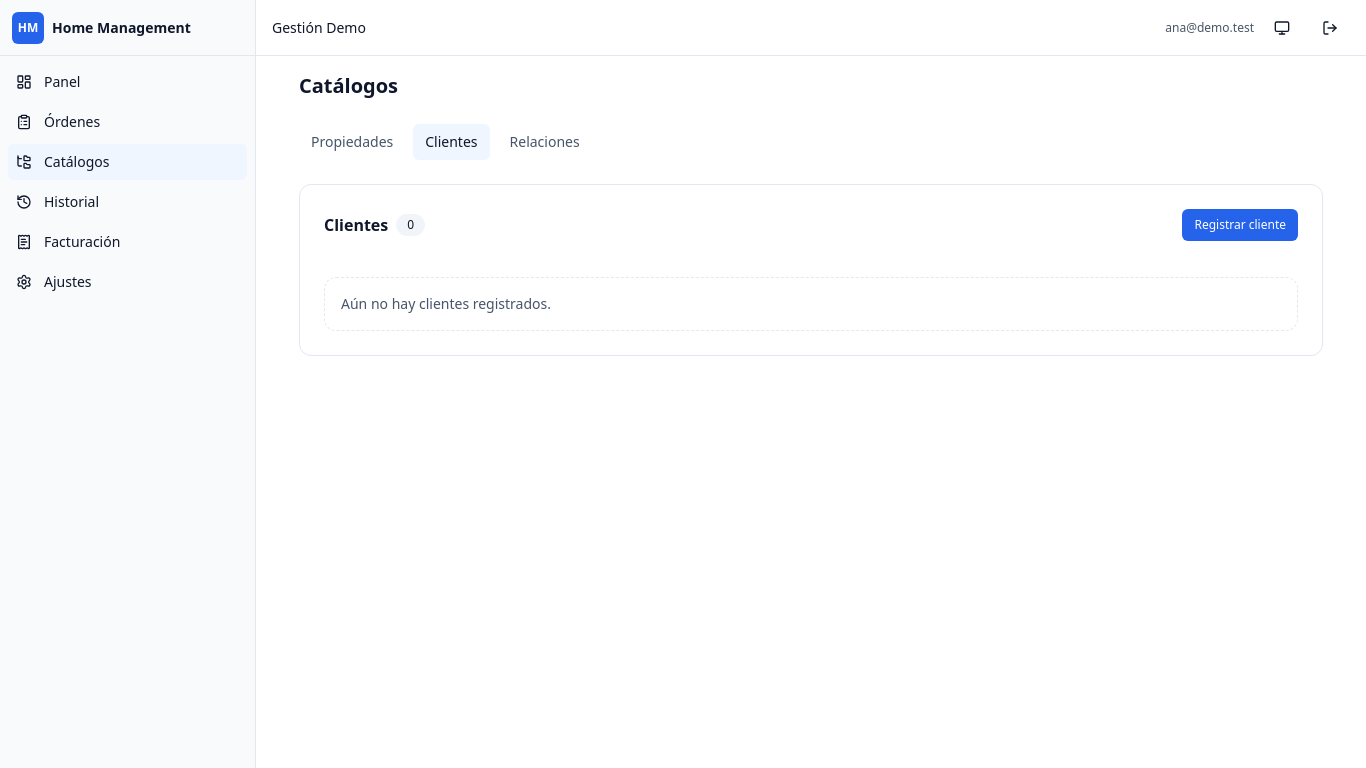
it: own clients (spec F3 §2.1, AC-F3.1/AC-F3.7) › registers a client and reports the emailed limited link (AC-F3.7)
The width and height of the screenshot is (1366, 768).
Click the button "Registrar cliente": (1240, 225) [1182,209,1298,241]
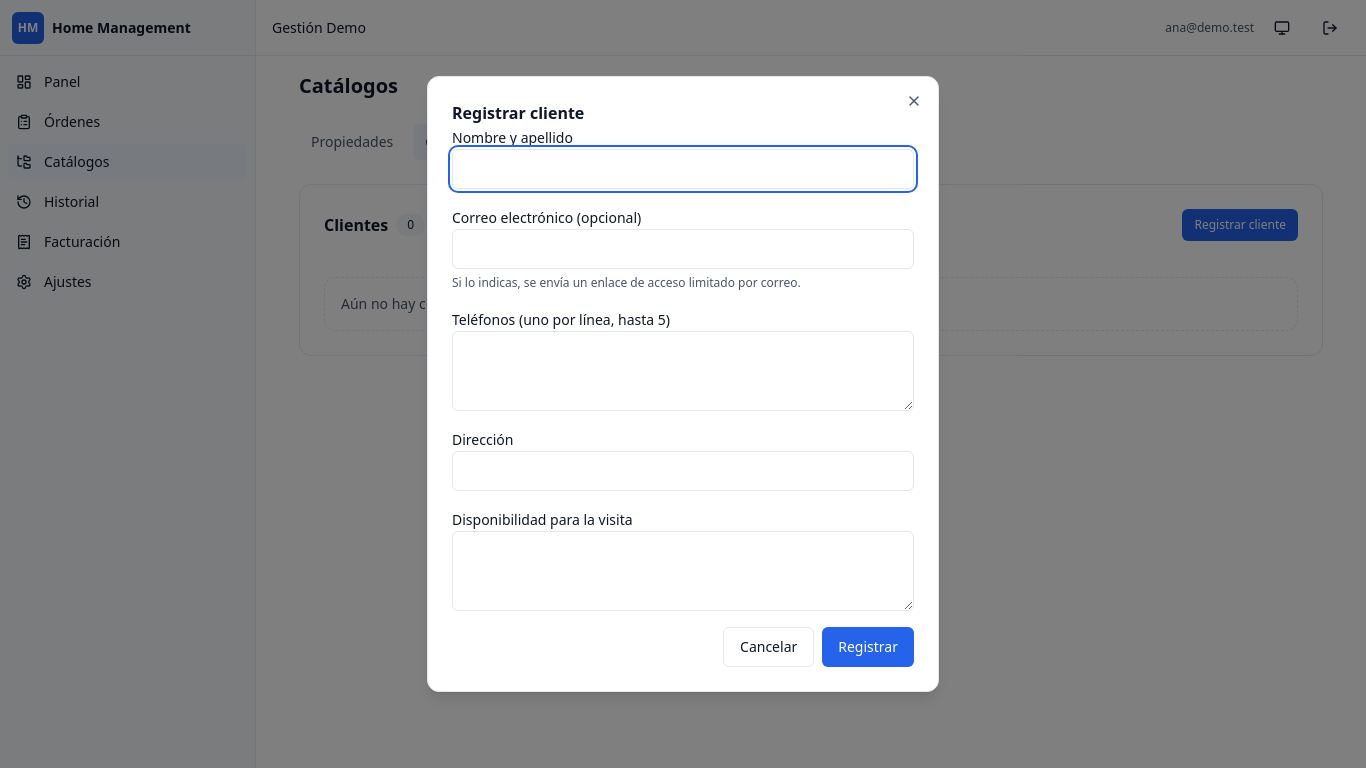
In the field labelled "Nombre y apellido": (683, 169) [452,149,914,189], type "Nuevo Cliente"
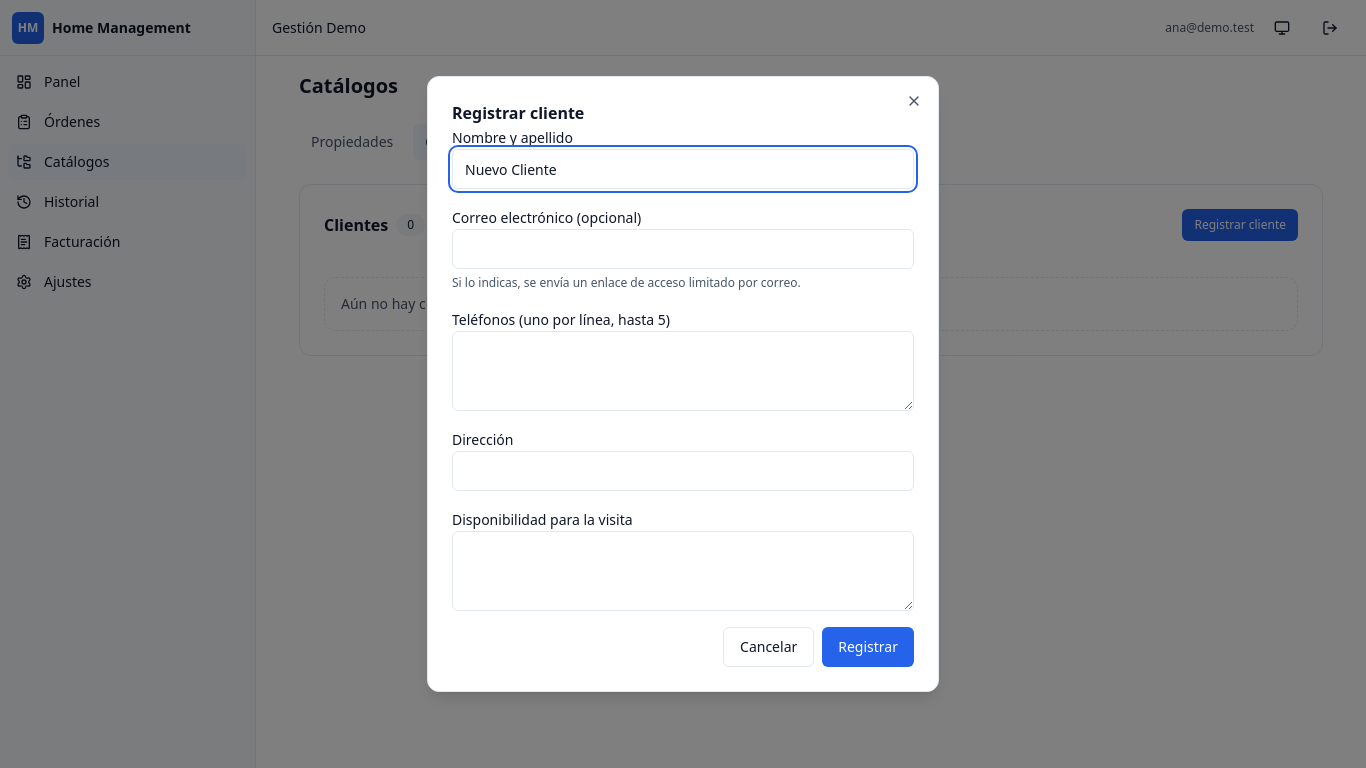
In the field labelled "Correo electrónico (opcional)": (683, 249) [452,229,914,269], type "nuevo@demo.test"
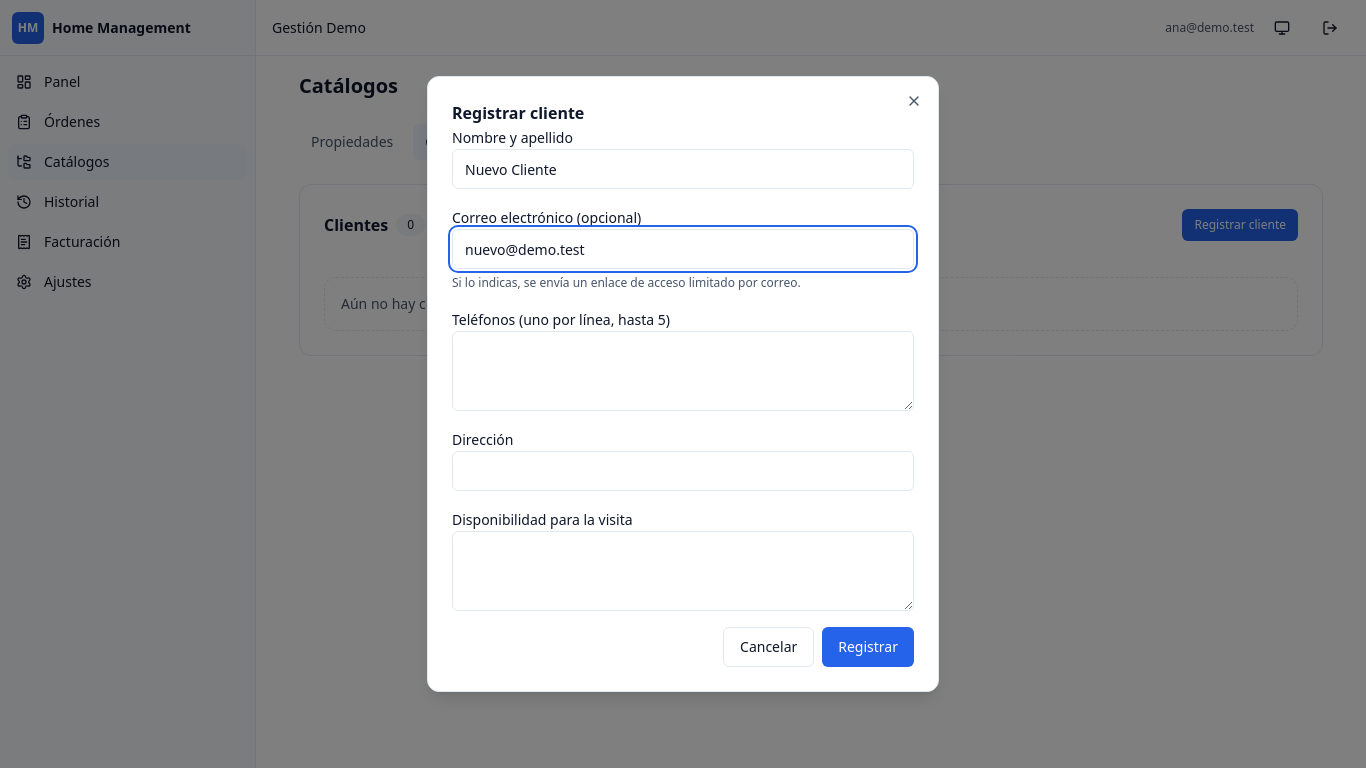
In the text box labelled "Teléfonos (uno por línea, hasta 5)": (683, 371) [452,331,914,411], type "555-0200"
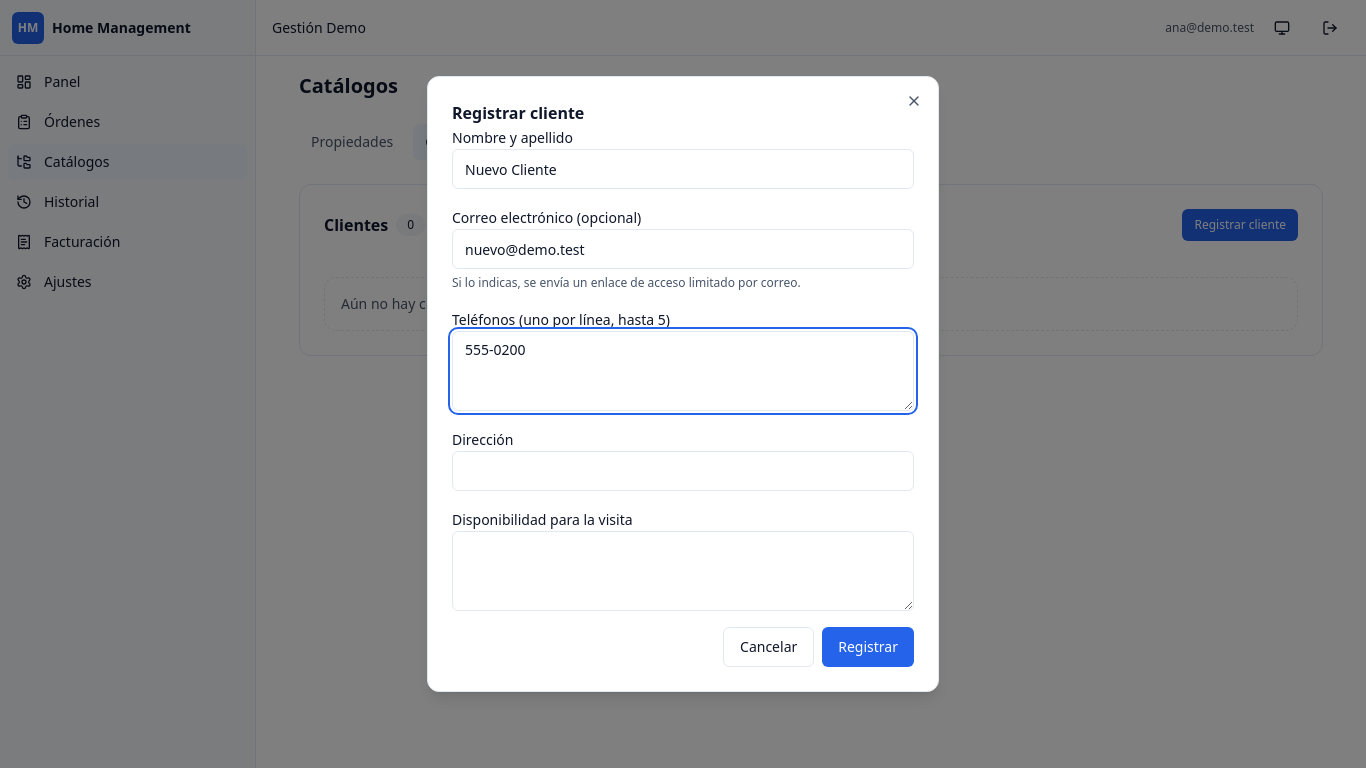
Click the button "Registrar": (868, 647) [822,627,914,667]
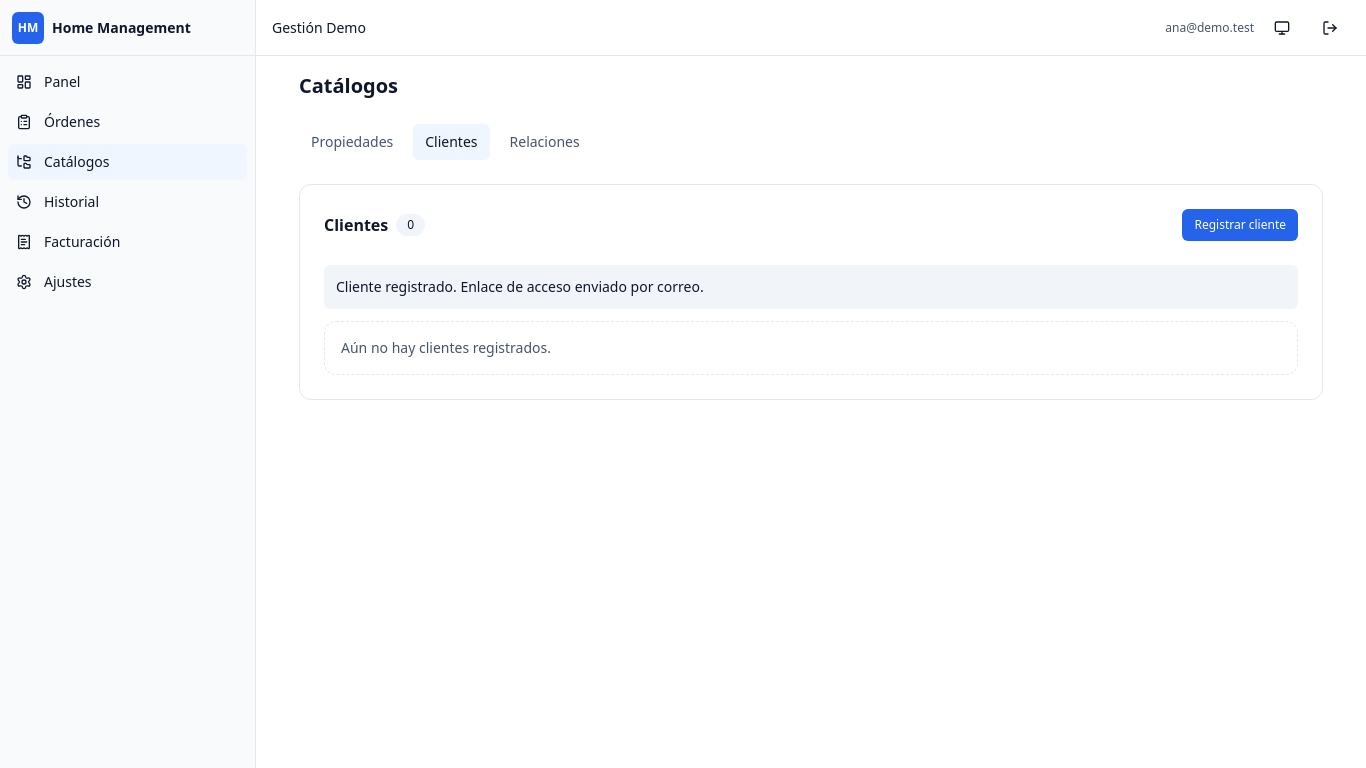
Result: the text "Cliente registrado. Enlace de acceso enviado por correo." is shown at [324,265,1298,309]
